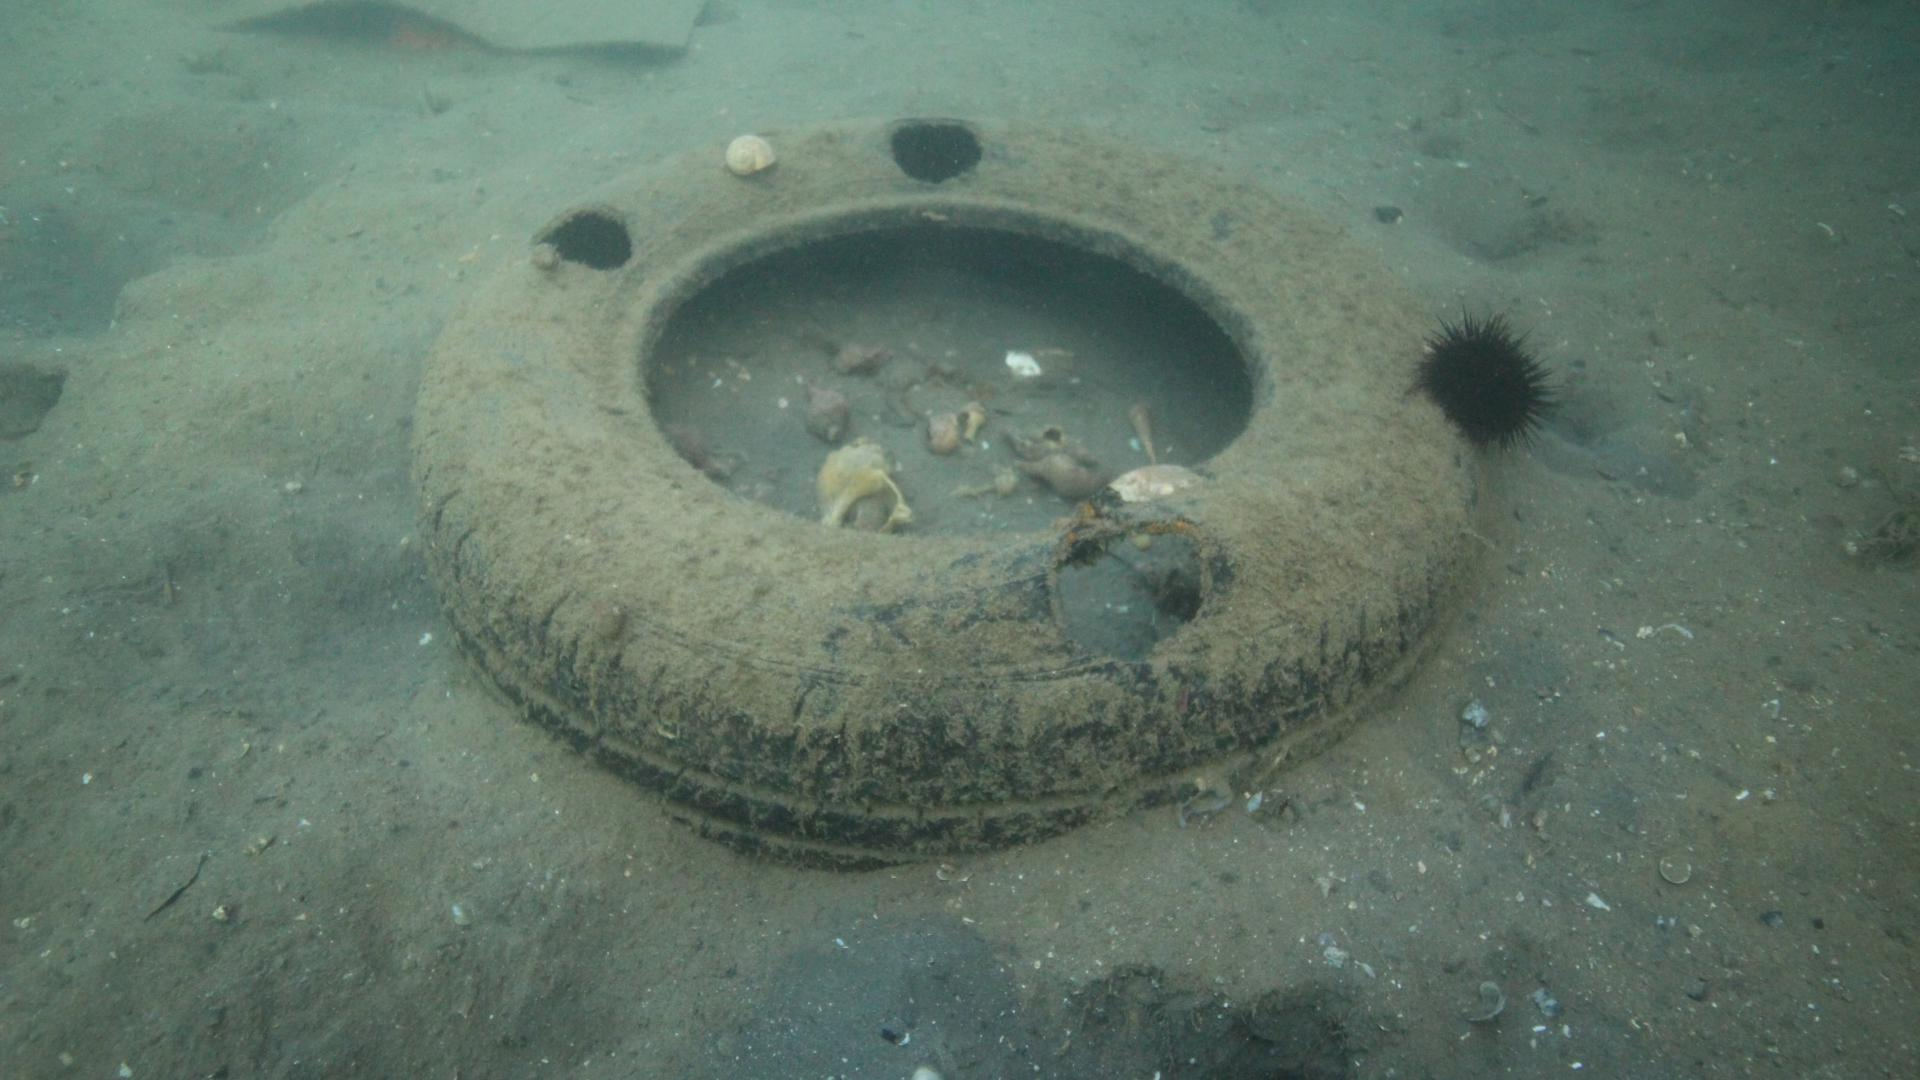tire: (406, 111, 1487, 876)
